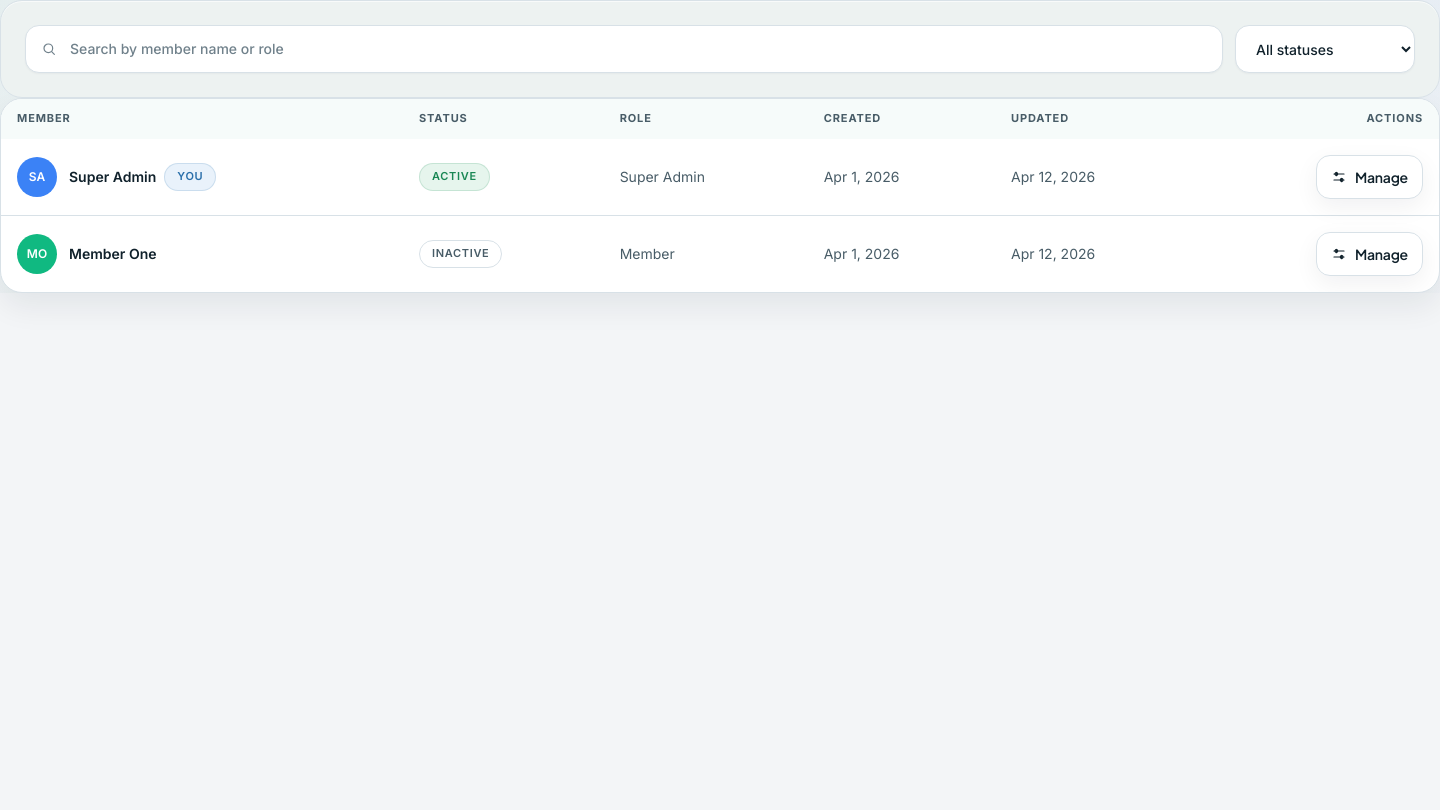
Test: MemberManagerList › opens account, password, and delete controls
This screenshot has width=1440, height=810.
Click the button "Manage" in the row of "MO" at (1369, 254), box [1316, 232, 1423, 276]
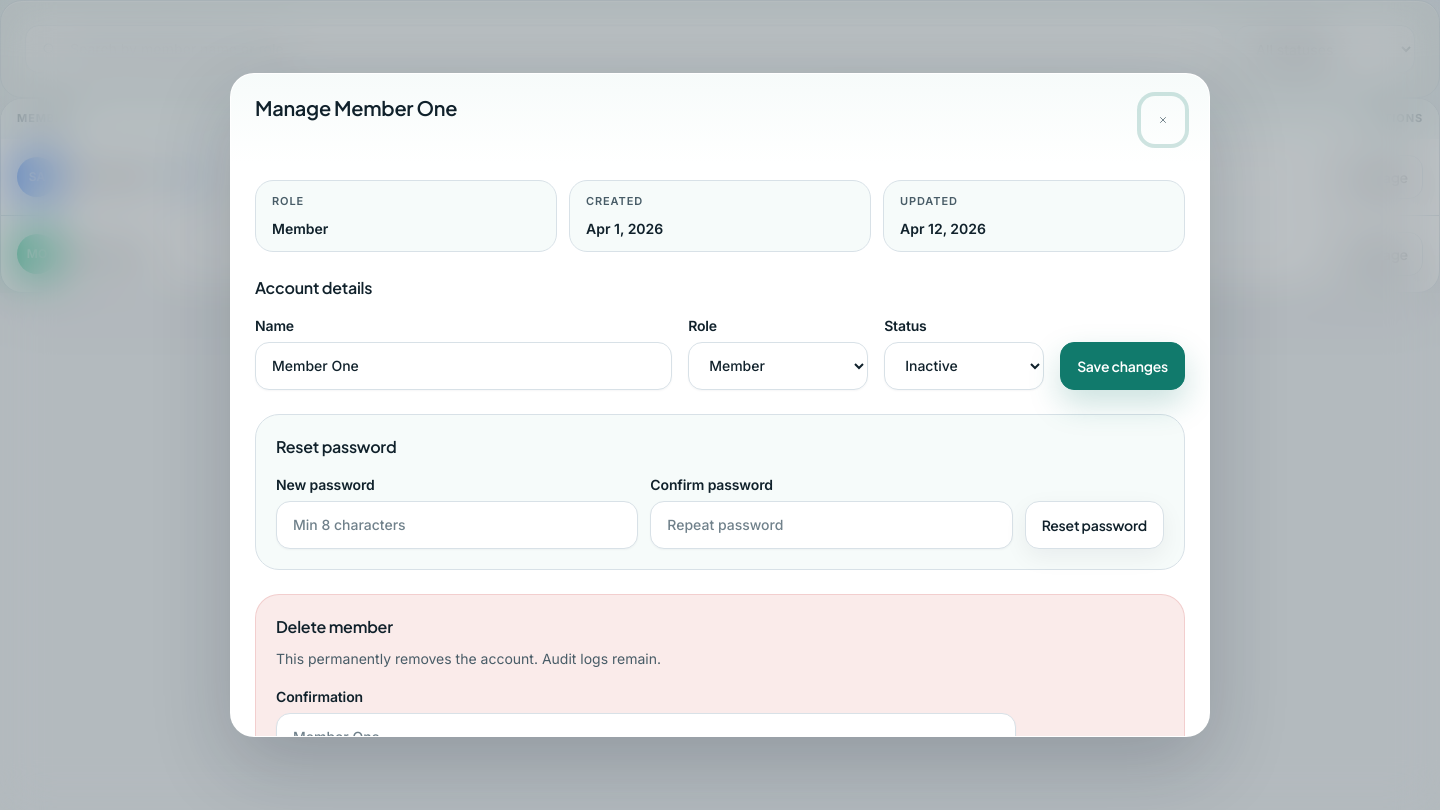
expect the dialog "Manage Member One" is shown: met, box [230, 73, 1210, 737]
expect the button "Save changes" is shown: met, box [1060, 342, 1185, 390]
expect the button "Reset password" is shown: met, box [1025, 500, 1164, 548]
